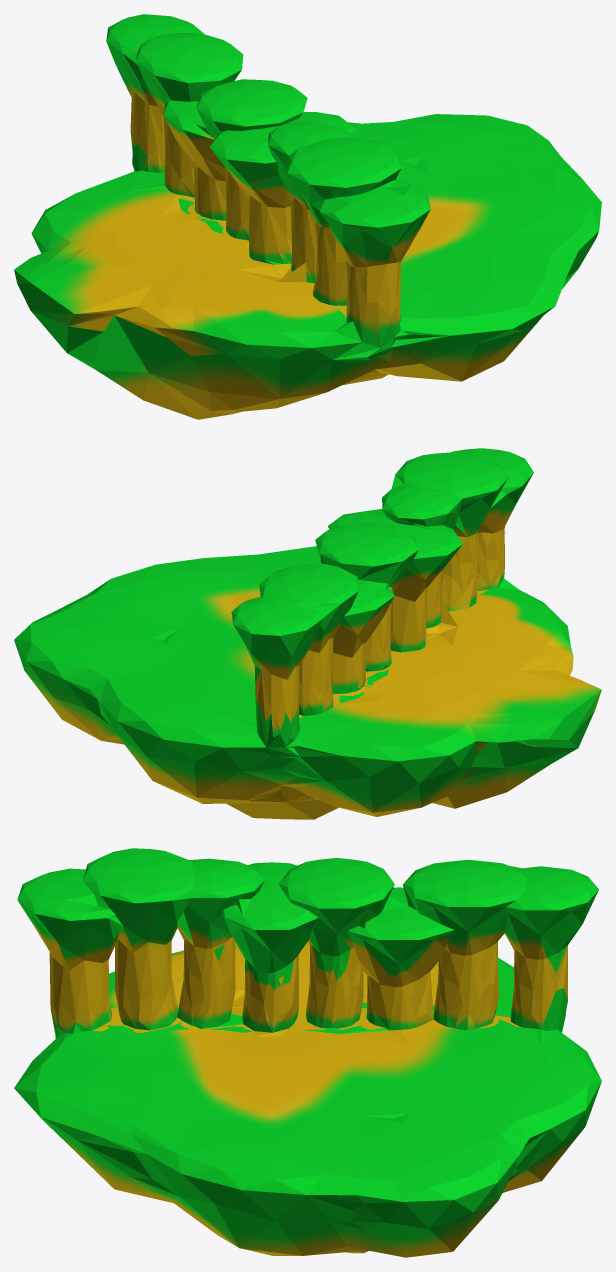
The model's file is landWall.obj.
3 views of the same model, one above another, from view 1: azimuth 30°, elevation 25°; view 2: azimuth 150°, elevation 25°; view 3: azimuth 270°, elevation 25° (orthographic). The views are drawn at different scales.
Visible parts, largest first — view 1: Ico_球體.001; view 2: Ico_球體.001; view 3: Ico_球體.001.
Part boxes in pixels (x1,y1,x2,y2): Ico_球體.001: (14,14,601,419); Ico_球體.001: (14,448,601,819); Ico_球體.001: (14,848,601,1257).
Size of the model in its own units: 306 by 173 by 269.
1 material, 1 textured.
